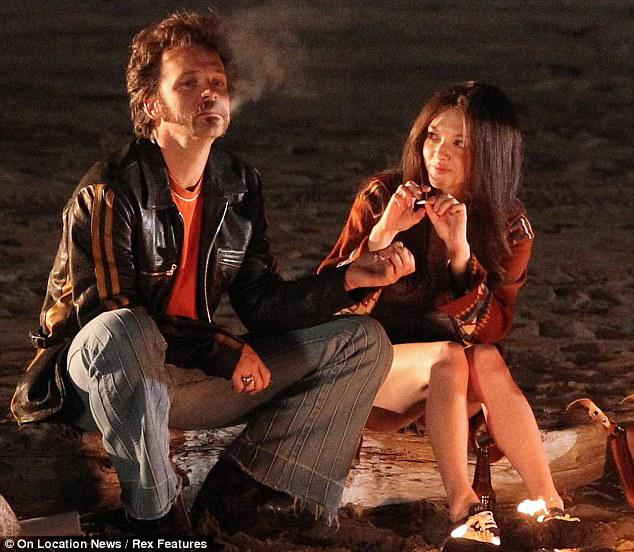smoking: (411, 194, 460, 236), (371, 232, 419, 271)
